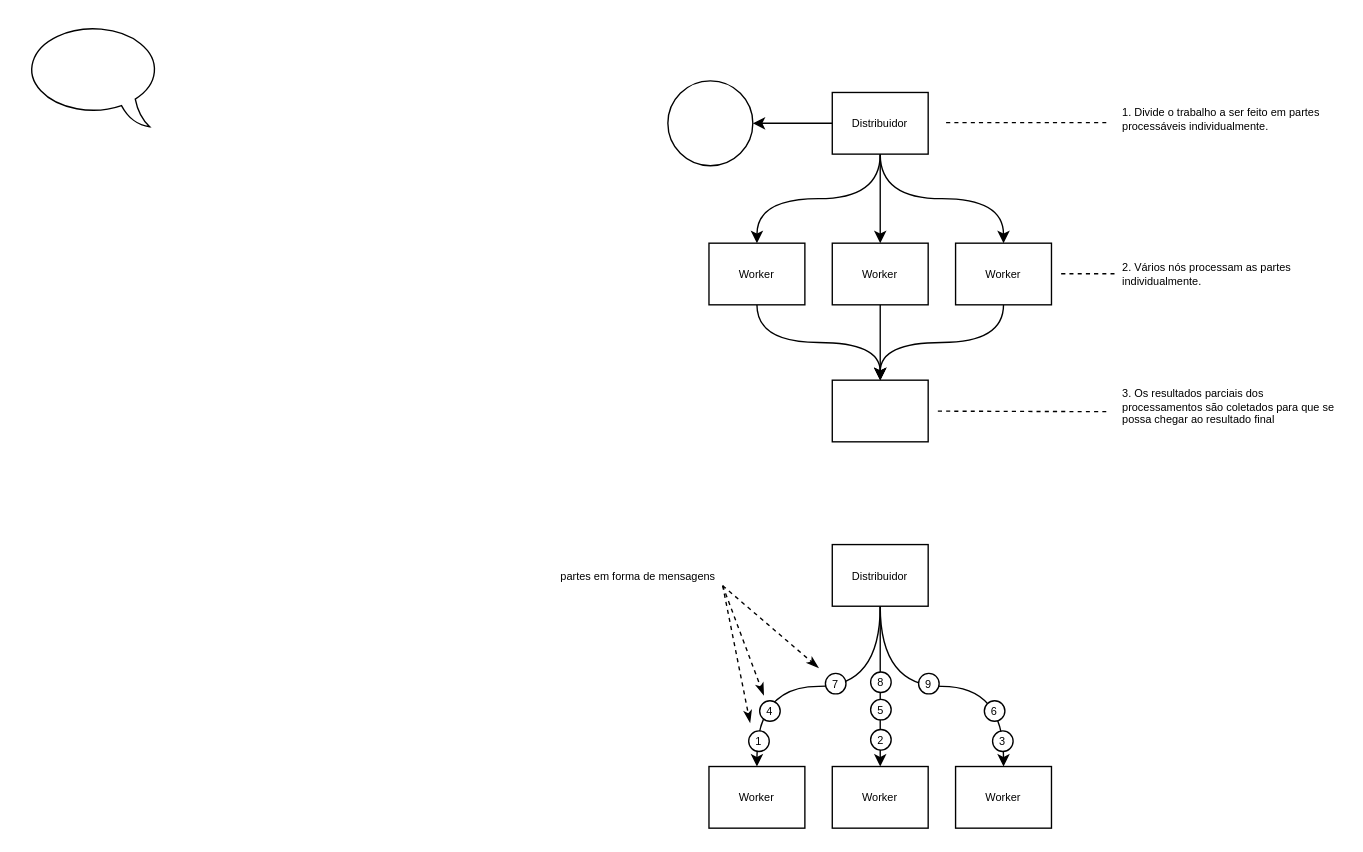
Image size: 1363x852. Some labels were removed from this diagram. Each missing label, with the centre of its shape:
"Coletor" belongs at (x=879, y=410).
"Eu sei programar aplicações com processamentos distribuídos." belongs at (x=92, y=75).
"Material a ser processado" belongs at (x=710, y=122).
